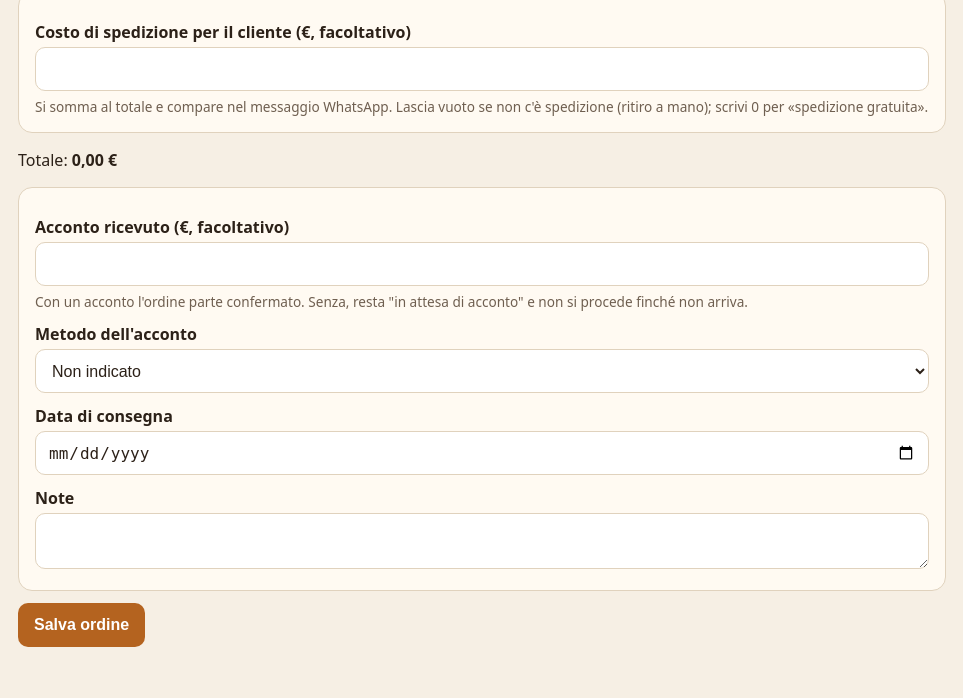
Test: senza cliente o senza righe non invia
(page scrolled)
Click the button "Salva ordine". click: (82, 625)
box: [18,603,145,647]
(page scrolled)
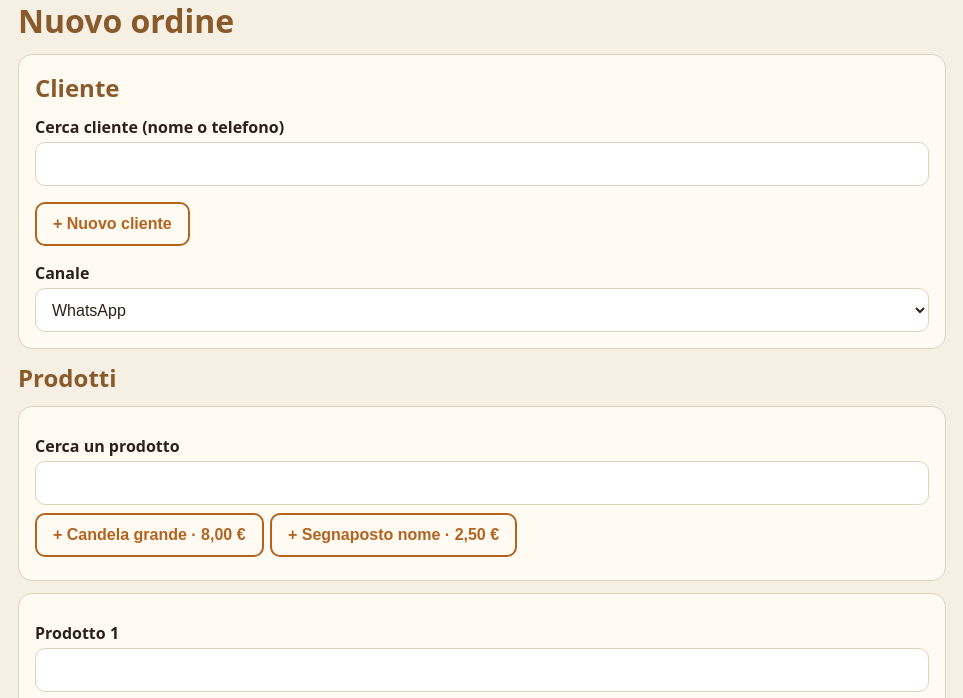
Type "mar" into the field labelled "Cerca cliente (nome o telefono)". click: (482, 164)
box: [35,142,929,186]
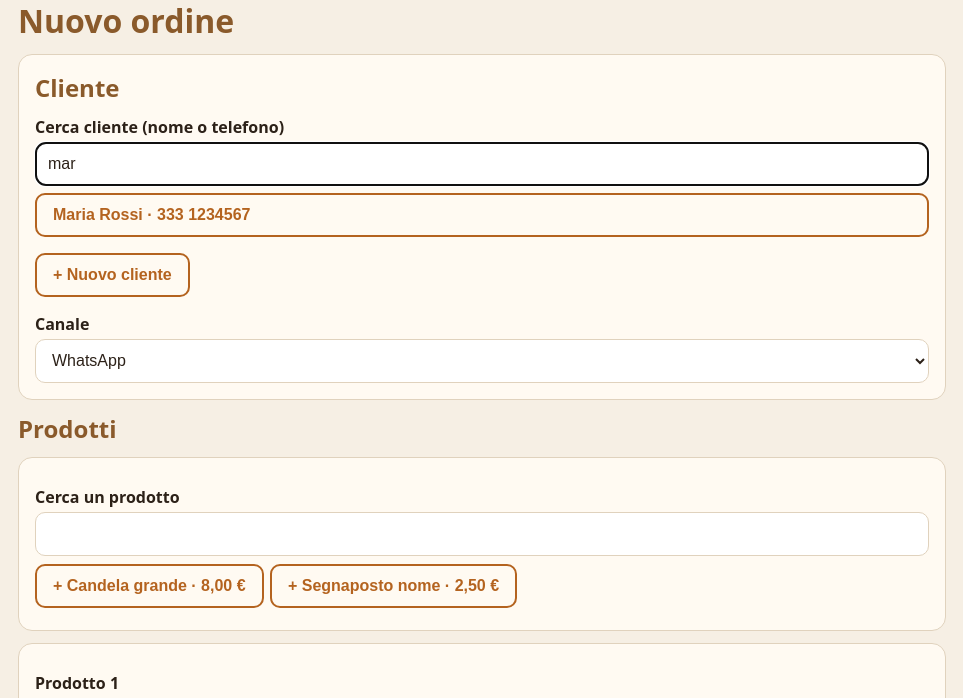
Click the button "Maria Rossi · 333 1234567". click: (98, 214)
box: [35,193,929,237]
(page scrolled)
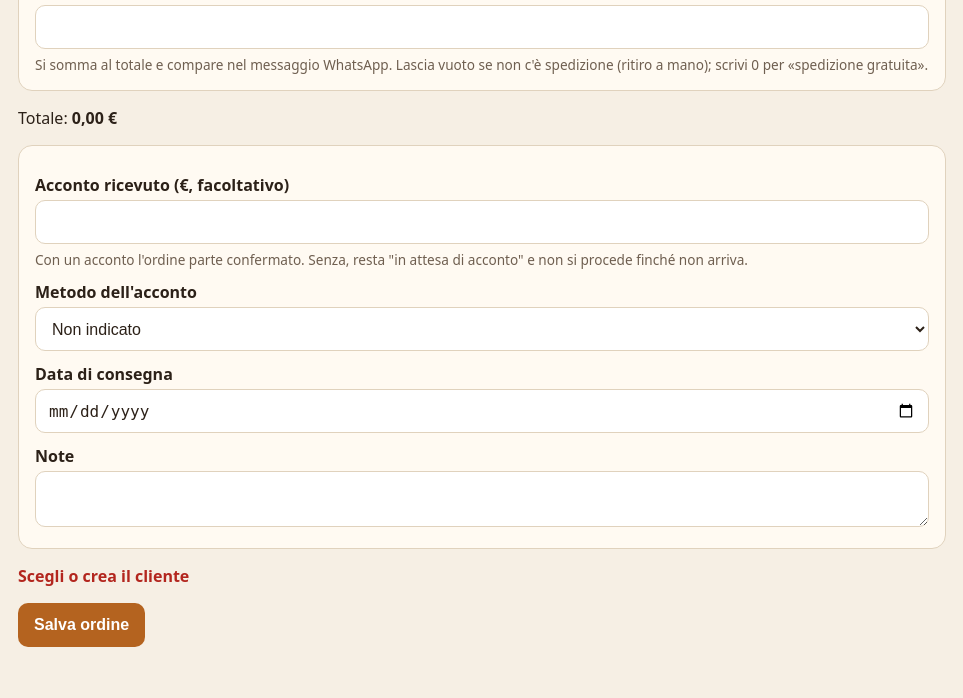
Click the button "Salva ordine". click: (82, 625)
box: [18,603,145,647]
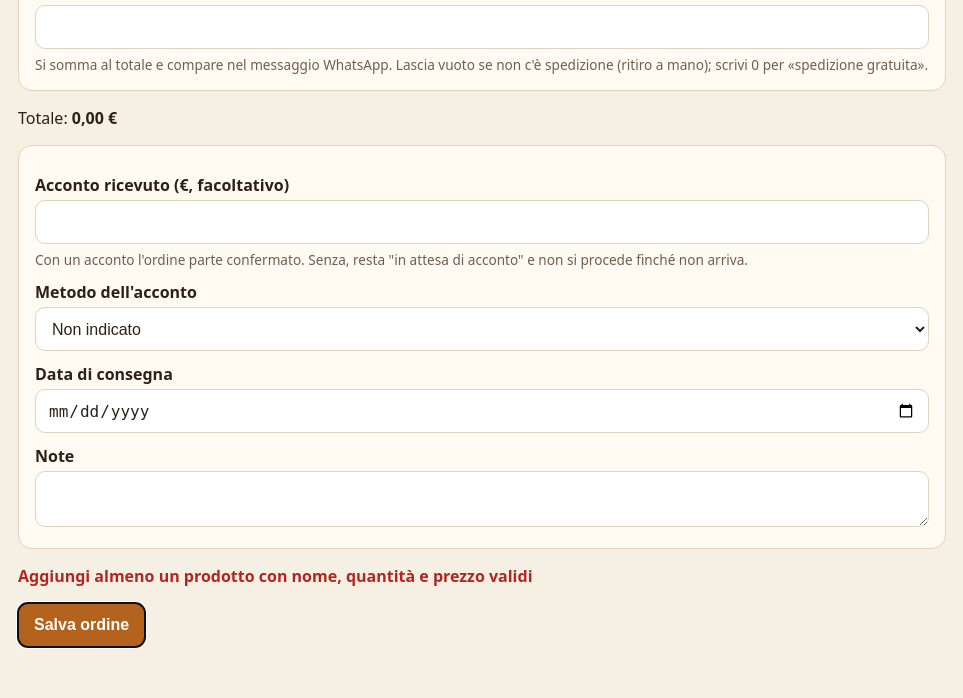
Check: the text "Aggiungi almeno un prodotto con nome, quantità e prezzo validi" is shown, box [18,565,532,587]
